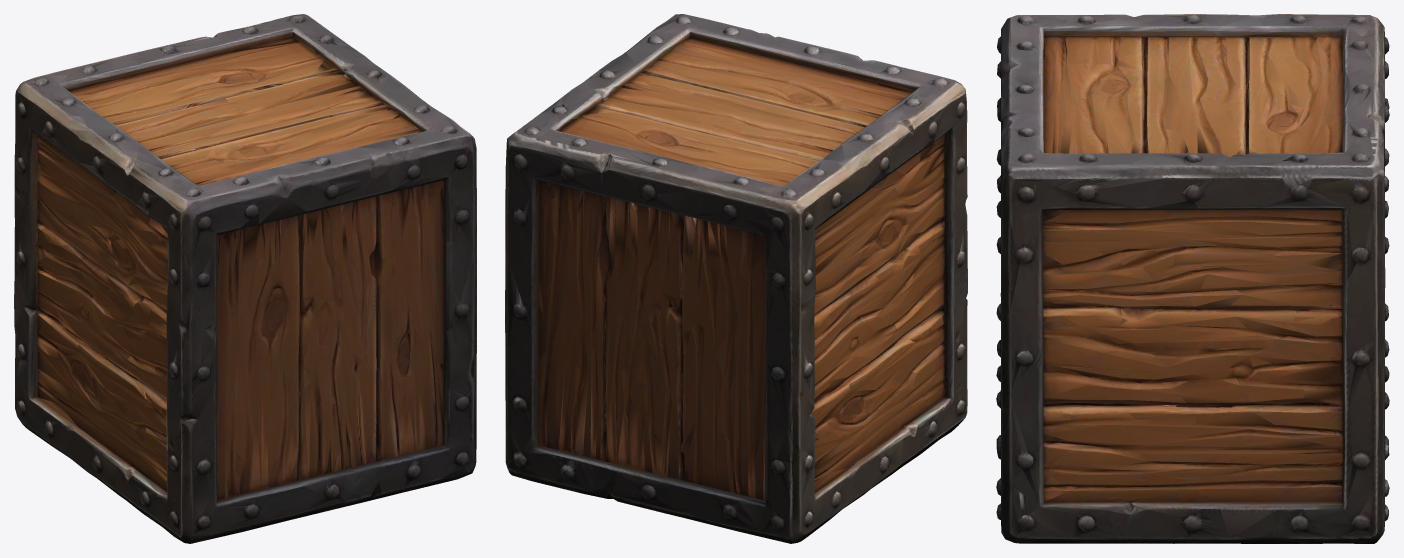
File: kup_ahsap_metal.glb
3 renders of one model, left to right at view 1: azimuth 30°, elevation 25°; view 2: azimuth 150°, elevation 25°; view 3: azimuth 270°, elevation 25°, orthographic. The views are drawn at different scales.
Parts seen in each view (by area): view 1: tripo_node_11aaa286-f187-4ec3-beaa-528a48464bca; view 2: tripo_node_11aaa286-f187-4ec3-beaa-528a48464bca; view 3: tripo_node_11aaa286-f187-4ec3-beaa-528a48464bca.
Part boxes in pixels (x1,y1,x2,y2): tripo_node_11aaa286-f187-4ec3-beaa-528a48464bca: (14,14,476,543); tripo_node_11aaa286-f187-4ec3-beaa-528a48464bca: (505,14,967,543); tripo_node_11aaa286-f187-4ec3-beaa-528a48464bca: (996,14,1389,543).
Bounding box in the file's own units: 0.8851 × 0.9799 × 0.9003.
Materials: 1 (1 with a texture image).
